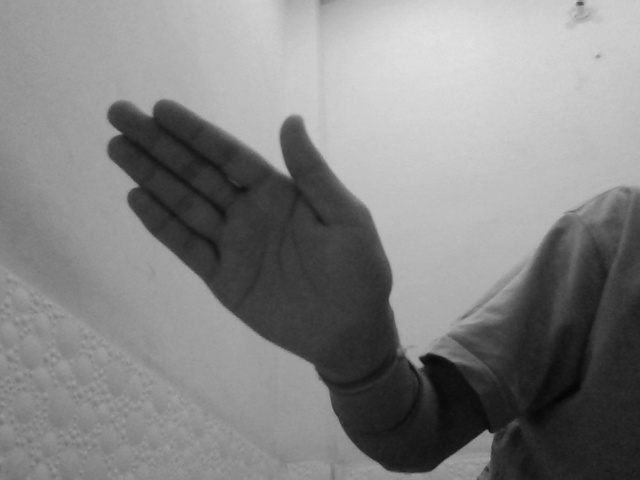Hello: (103, 96, 396, 363)
